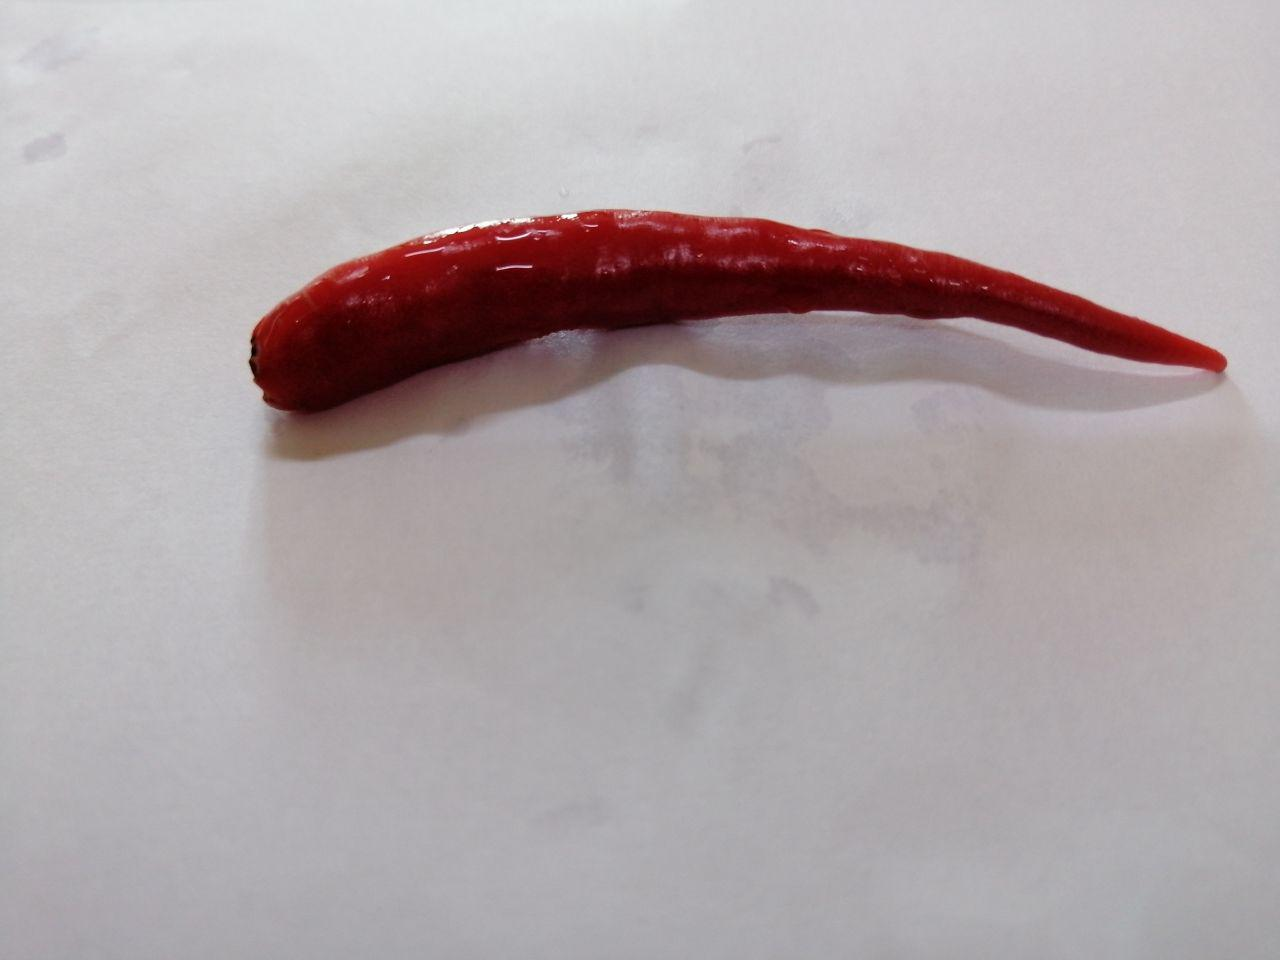lada merah: (210, 192, 1241, 456)
